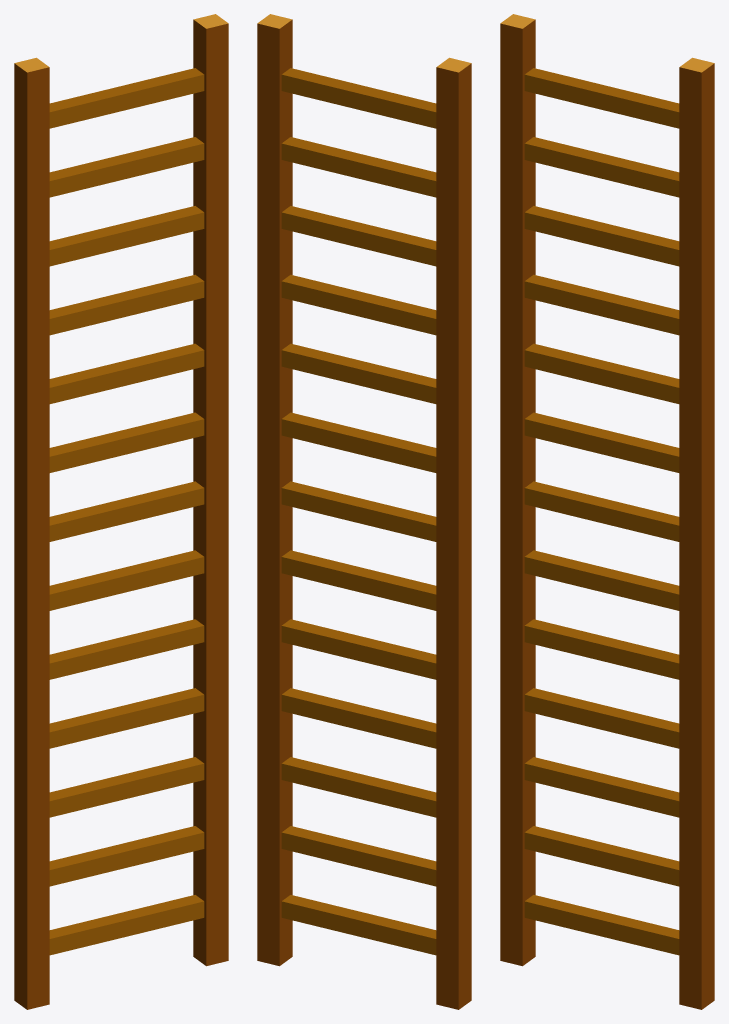
Rendered from Ladder_01.fbx.
3 renders of one model, left to right at view 1: azimuth 30°, elevation 25°; view 2: azimuth 150°, elevation 25°; view 3: azimuth 330°, elevation 25°, orthographic.
Visible parts, largest first — view 1: Ladder_01; view 2: Ladder_01; view 3: Ladder_01.
Boxes of the visible parts, x1,y1,x2,y2 form: Ladder_01: [14, 14, 228, 1009]; Ladder_01: [257, 14, 471, 1009]; Ladder_01: [500, 14, 714, 1009].
Bounding box in the file's own units: 90 × 400 × 10.
Materials: 1 (1 with a texture image).
